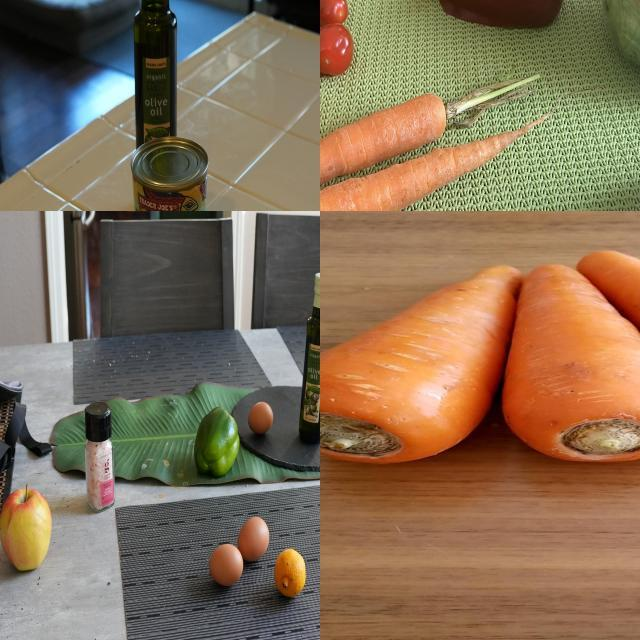bell_pepper: (193, 405, 246, 481)
carrot: (321, 262, 522, 462), (499, 261, 640, 465), (321, 100, 547, 212)
egg: (239, 516, 269, 559), (212, 542, 241, 584), (246, 399, 276, 439)
tomato: (321, 27, 361, 76), (321, 1, 355, 24)
zucchini: (326, 144, 640, 212)
